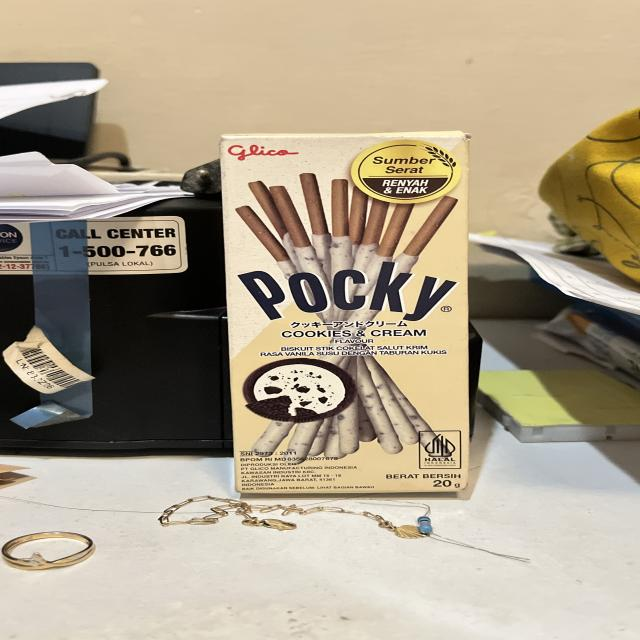Kertas: (217, 133, 477, 498)
